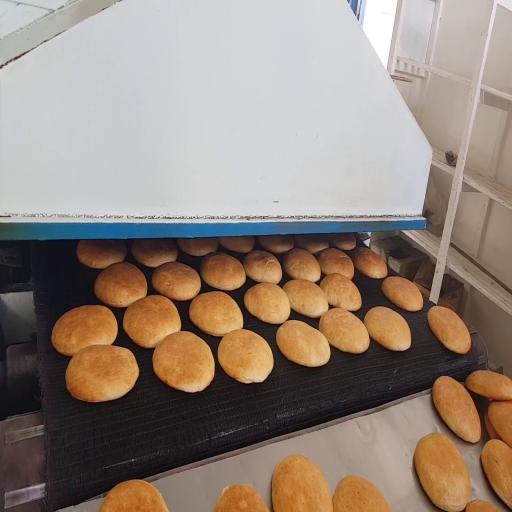bread: (414, 433, 470, 511), (66, 346, 139, 402), (153, 331, 214, 392), (272, 455, 333, 511), (52, 306, 117, 356), (432, 376, 481, 442), (123, 295, 181, 347), (218, 330, 273, 383), (276, 320, 330, 367), (189, 292, 243, 336), (95, 262, 147, 307), (319, 308, 369, 353), (99, 480, 168, 511), (364, 307, 411, 351), (428, 306, 471, 354), (481, 440, 511, 508), (333, 476, 390, 511), (152, 262, 201, 301), (244, 283, 290, 324), (283, 280, 328, 318), (200, 253, 245, 290), (320, 274, 361, 311), (77, 240, 127, 269), (382, 276, 423, 311), (214, 485, 268, 511), (466, 371, 511, 401), (283, 248, 321, 282), (131, 239, 177, 267), (243, 250, 282, 283), (317, 248, 354, 279), (488, 402, 511, 447), (354, 247, 387, 278), (177, 238, 218, 256), (259, 236, 294, 254), (295, 235, 328, 254), (219, 236, 254, 253), (328, 233, 356, 250), (484, 412, 500, 439), (466, 500, 498, 511)
